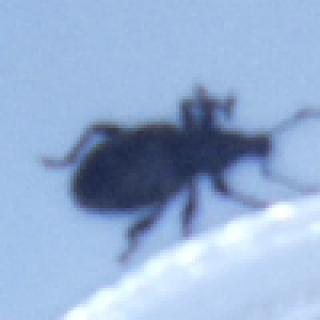bvw: (42, 82, 318, 258)
